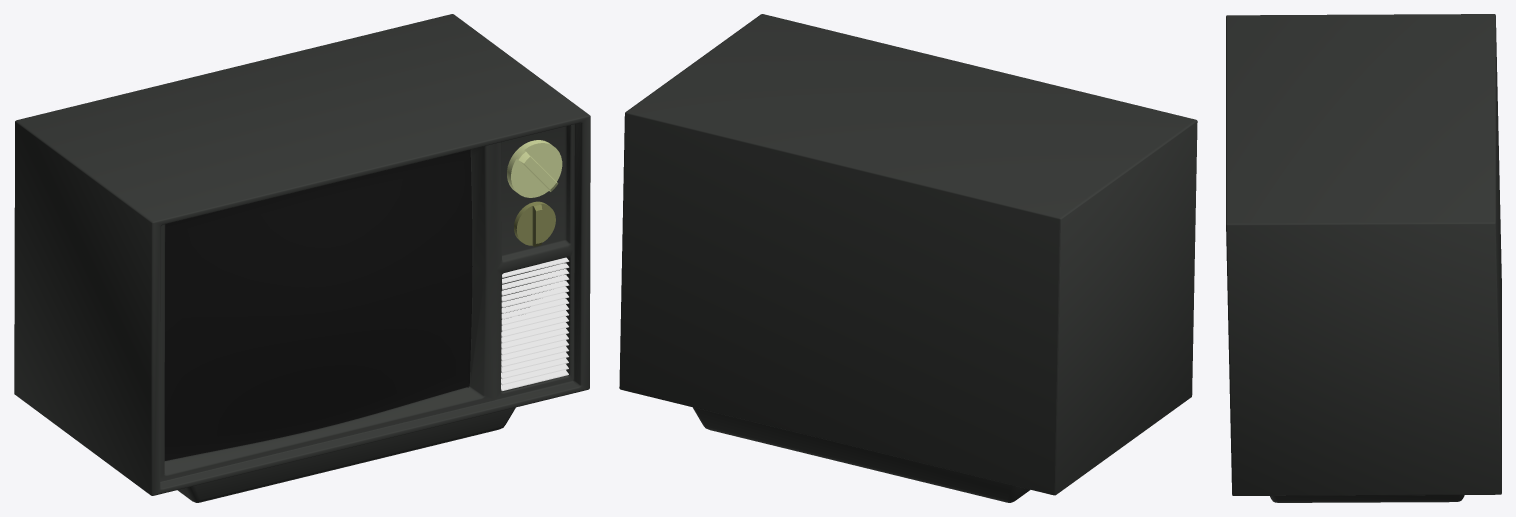
File: classic_tv.glb
The picture shows the model from 3 angles, left to right: view 1: azimuth 30°, elevation 25°; view 2: azimuth 150°, elevation 25°; view 3: azimuth 270°, elevation 25°; orthographic projection. The views are drawn at different scales.
Visible parts, largest first — view 1: Frame, Grill, BottomRest, DialBig, DialSmall; view 2: Frame, BottomRest; view 3: Frame, BottomRest.
Part boxes in pixels (x1=…): Frame: x1=14, y1=14, x2=590, y2=495; Grill: x1=501, y1=257, x2=569, y2=390; BottomRest: x1=177, y1=407, x2=515, y2=502; DialBig: x1=507, y1=140, x2=562, y2=197; DialSmall: x1=514, y1=201, x2=555, y2=246; Frame: x1=619, y1=14, x2=1197, y2=495; BottomRest: x1=693, y1=407, x2=1030, y2=502; Frame: x1=1226, y1=14, x2=1501, y2=495; BottomRest: x1=1270, y1=495, x2=1464, y2=502.
Bounding box in the file's own units: 7.58 × 5.23 × 4.19.
